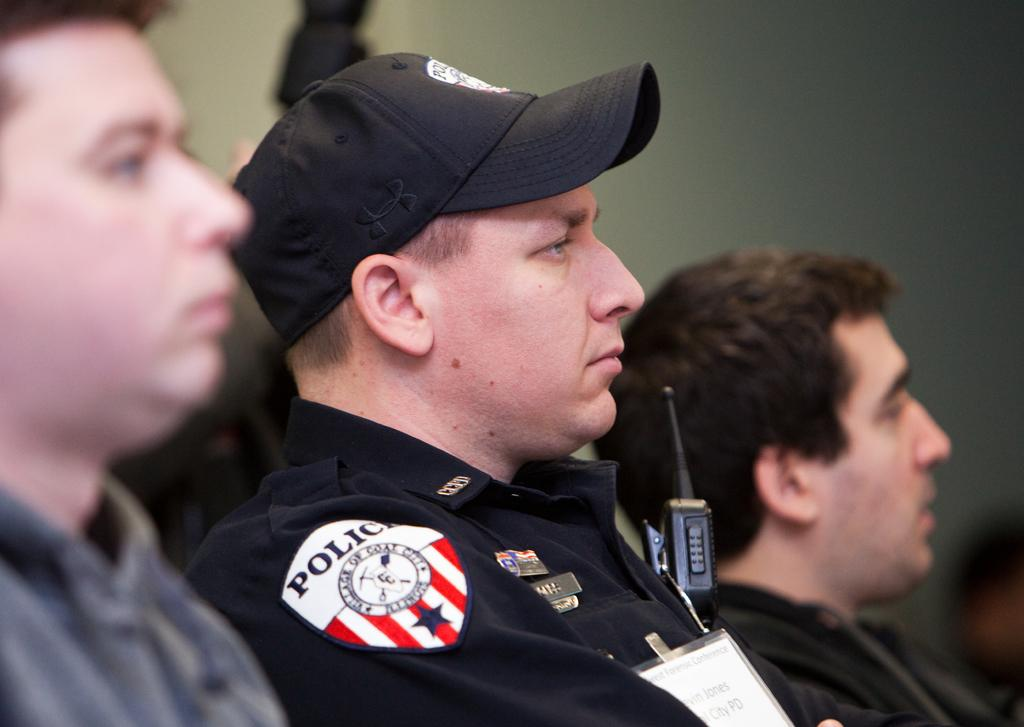Hat: (222, 59, 662, 340)
